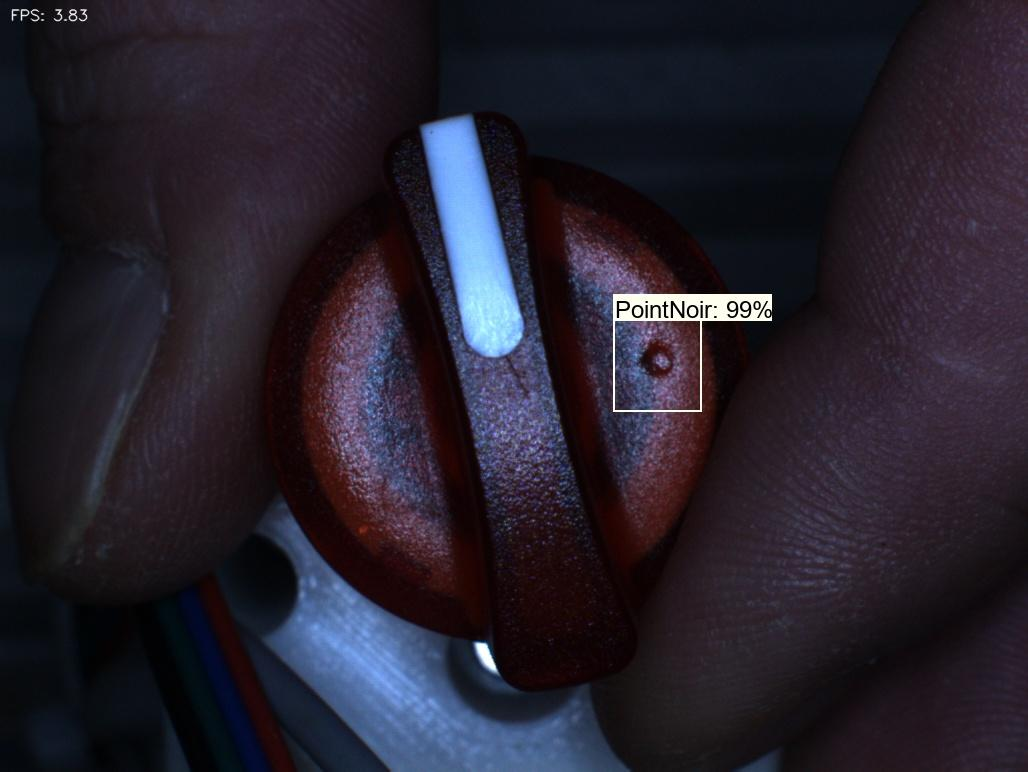Choc: (619, 328, 702, 413)
